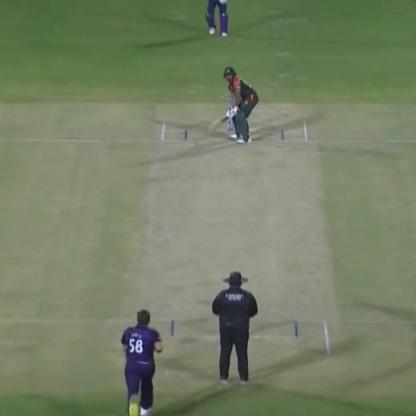bat: (203, 108, 236, 134)
pitch: (146, 124, 329, 362)
